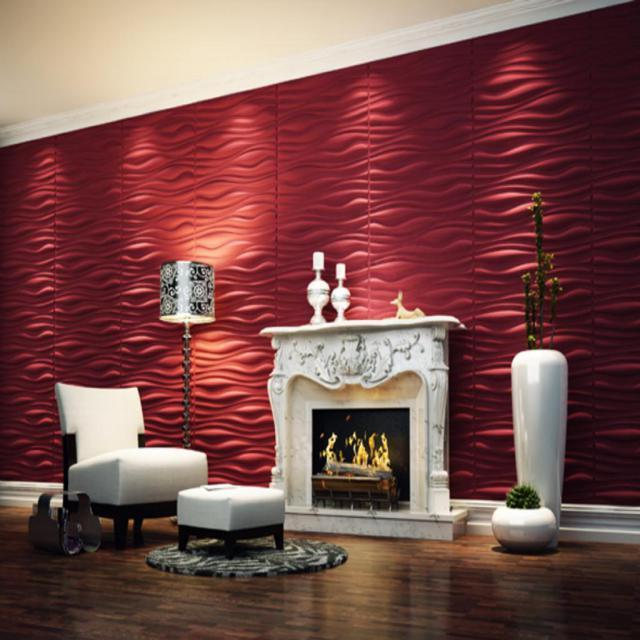Fire: (319, 429, 395, 482)
